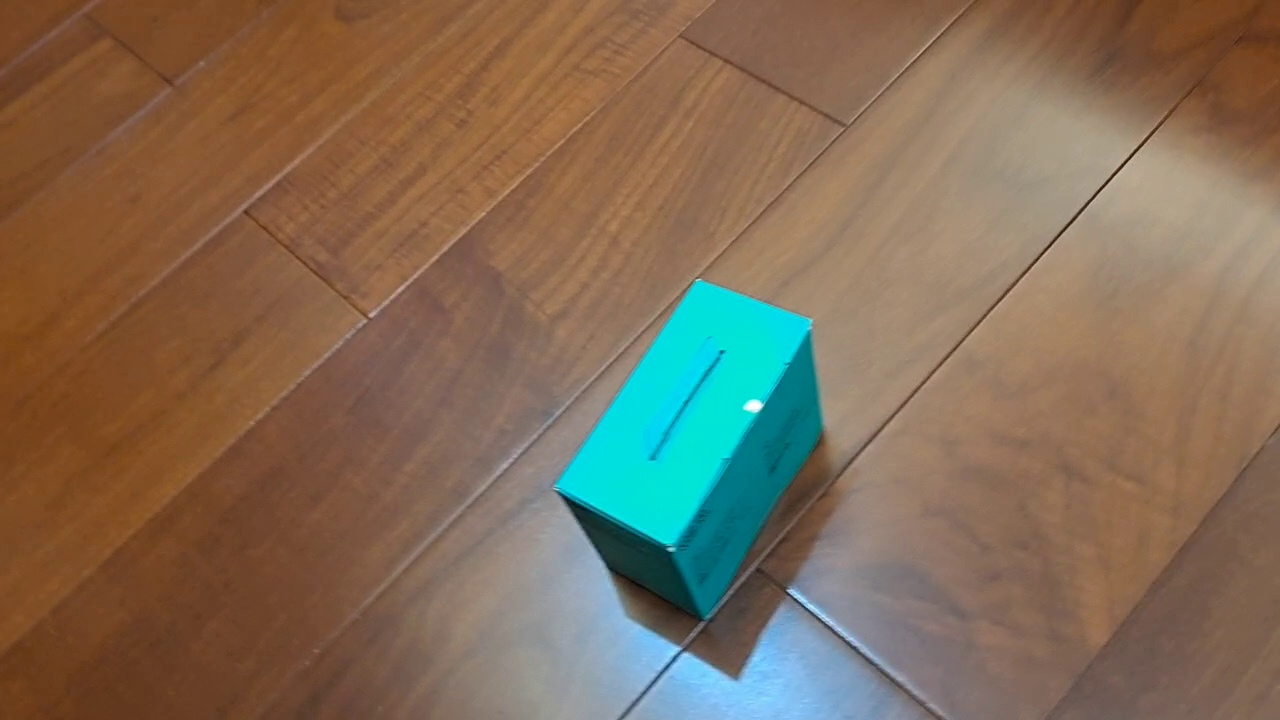webcam: (549, 276, 825, 623)
